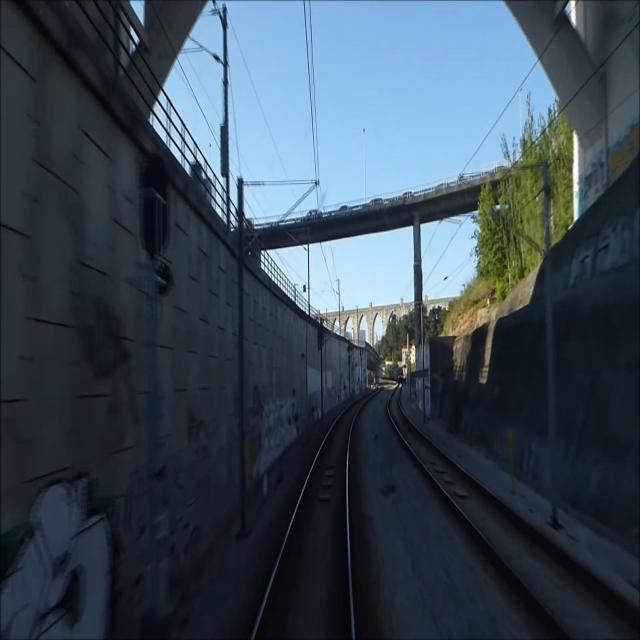rail-track: (390, 389, 640, 639), (256, 404, 358, 639)
